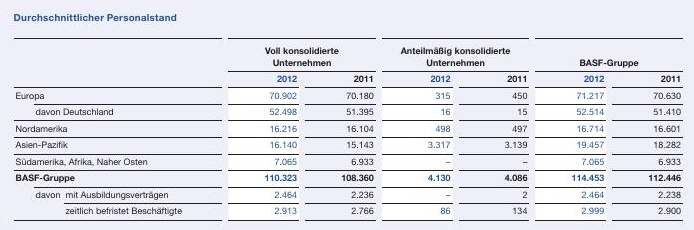table: (0, 0, 694, 230)
